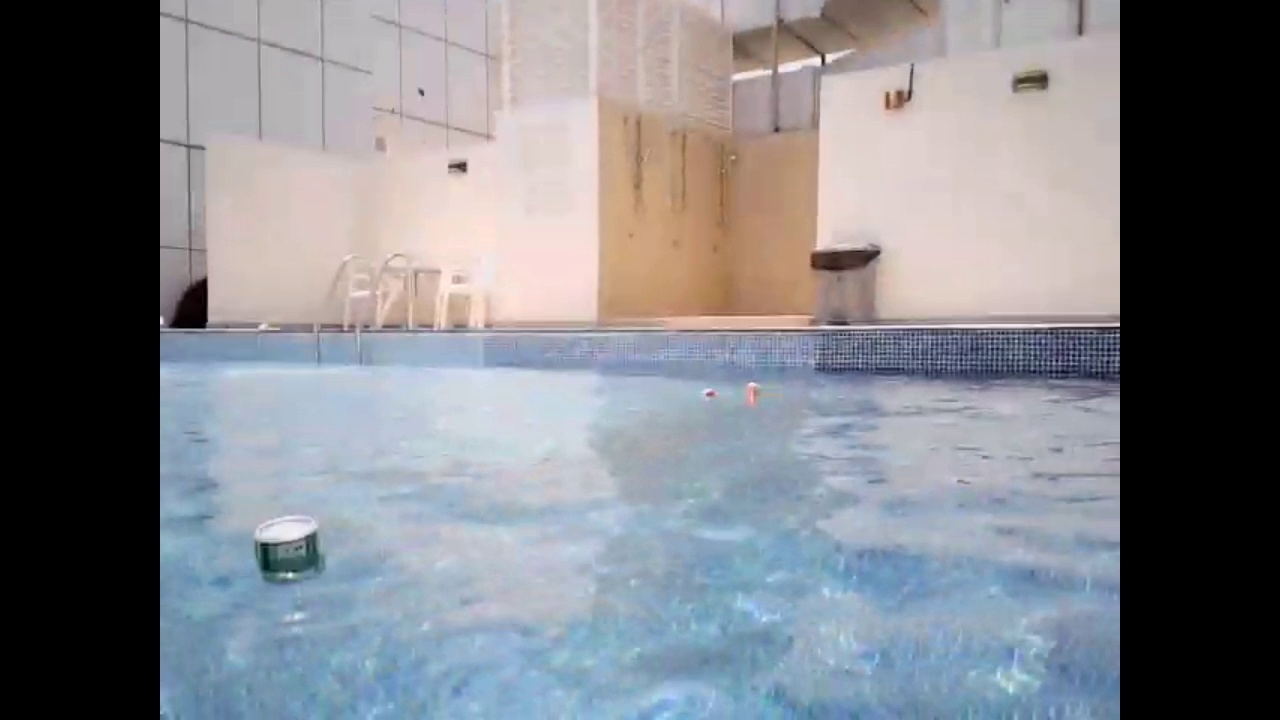debris: (243, 507, 330, 602), (745, 381, 761, 398), (700, 386, 716, 400)
